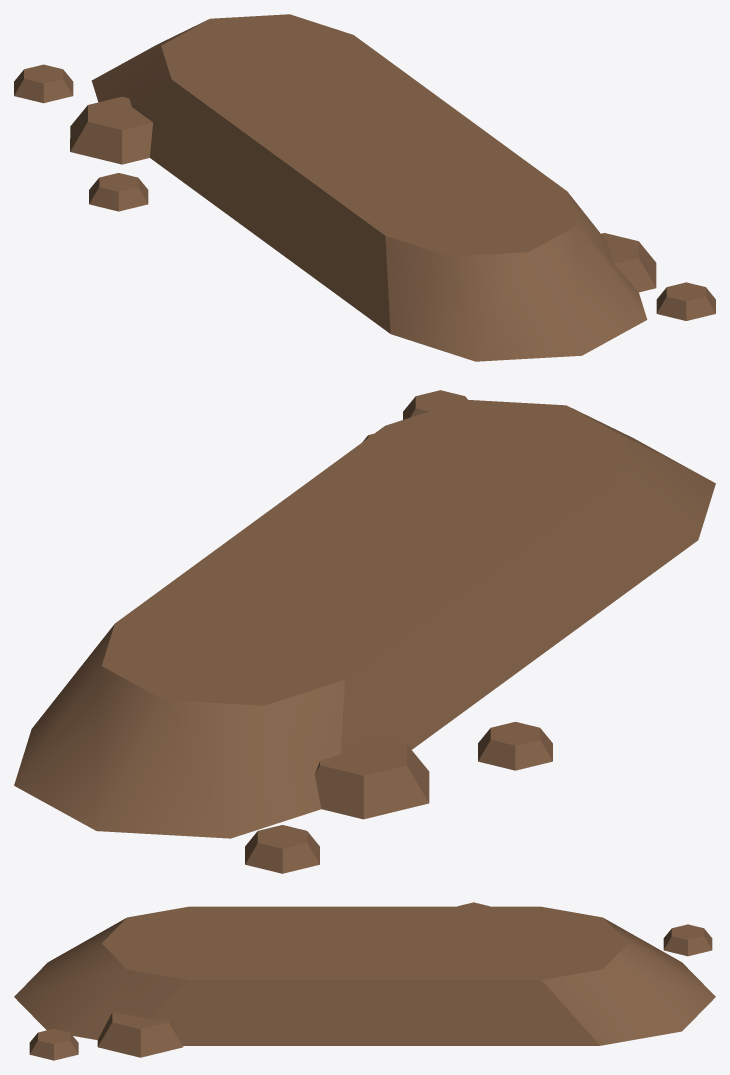
Rendered from gy_grave.glb.
3 views of the same model, one above another, from view 1: azimuth 30°, elevation 25°; view 2: azimuth 150°, elevation 25°; view 3: azimuth 270°, elevation 25° (orthographic). The views are drawn at different scales.
Parts seen in each view (by area): view 1: gy_grave2; view 2: gy_grave2; view 3: gy_grave2.
Boxes of the visible parts, left/top/right/bottom form: gy_grave2: left=14, top=14, right=715, bottom=361; gy_grave2: left=14, top=390, right=715, bottom=873; gy_grave2: left=14, top=902, right=715, bottom=1060.
Size of the model in its own units: 2.11 by 0.35 by 4.16.
